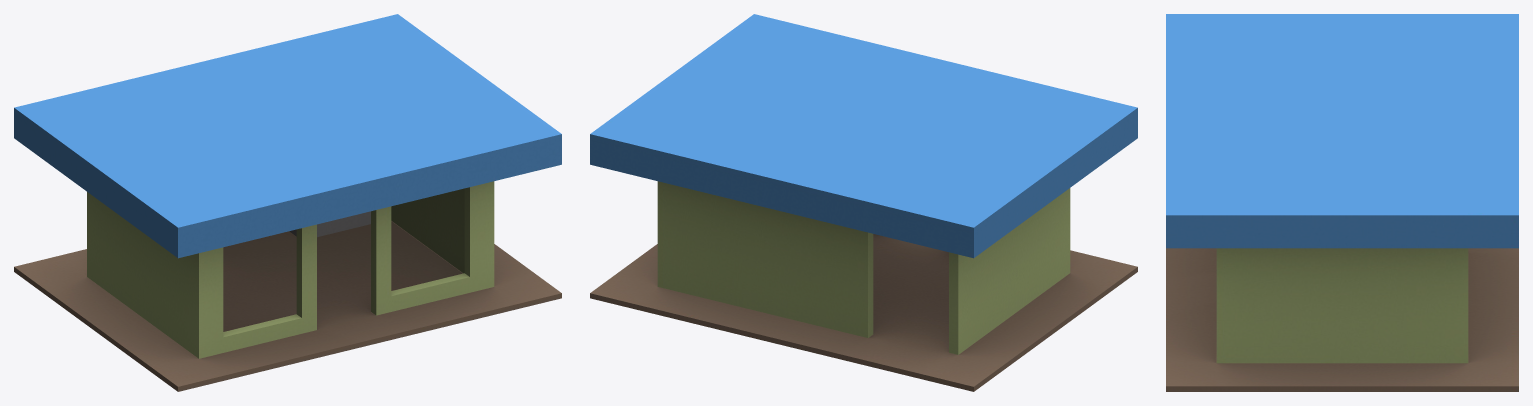
File: house.FBX
3 views of the same model, side by side, from view 1: azimuth 30°, elevation 25°; view 2: azimuth 150°, elevation 25°; view 3: azimuth 270°, elevation 25° (orthographic). The views are drawn at different scales.
Visible parts, largest first — view 1: house; view 2: house; view 3: house.
Boxes of the visible parts, x1,y1,x2,y2 form: house: (14, 14, 561, 391); house: (590, 14, 1137, 391); house: (1166, 14, 1518, 391).
Bounding box in the file's own units: 832 × 340 × 616.
1 material, 1 textured.
